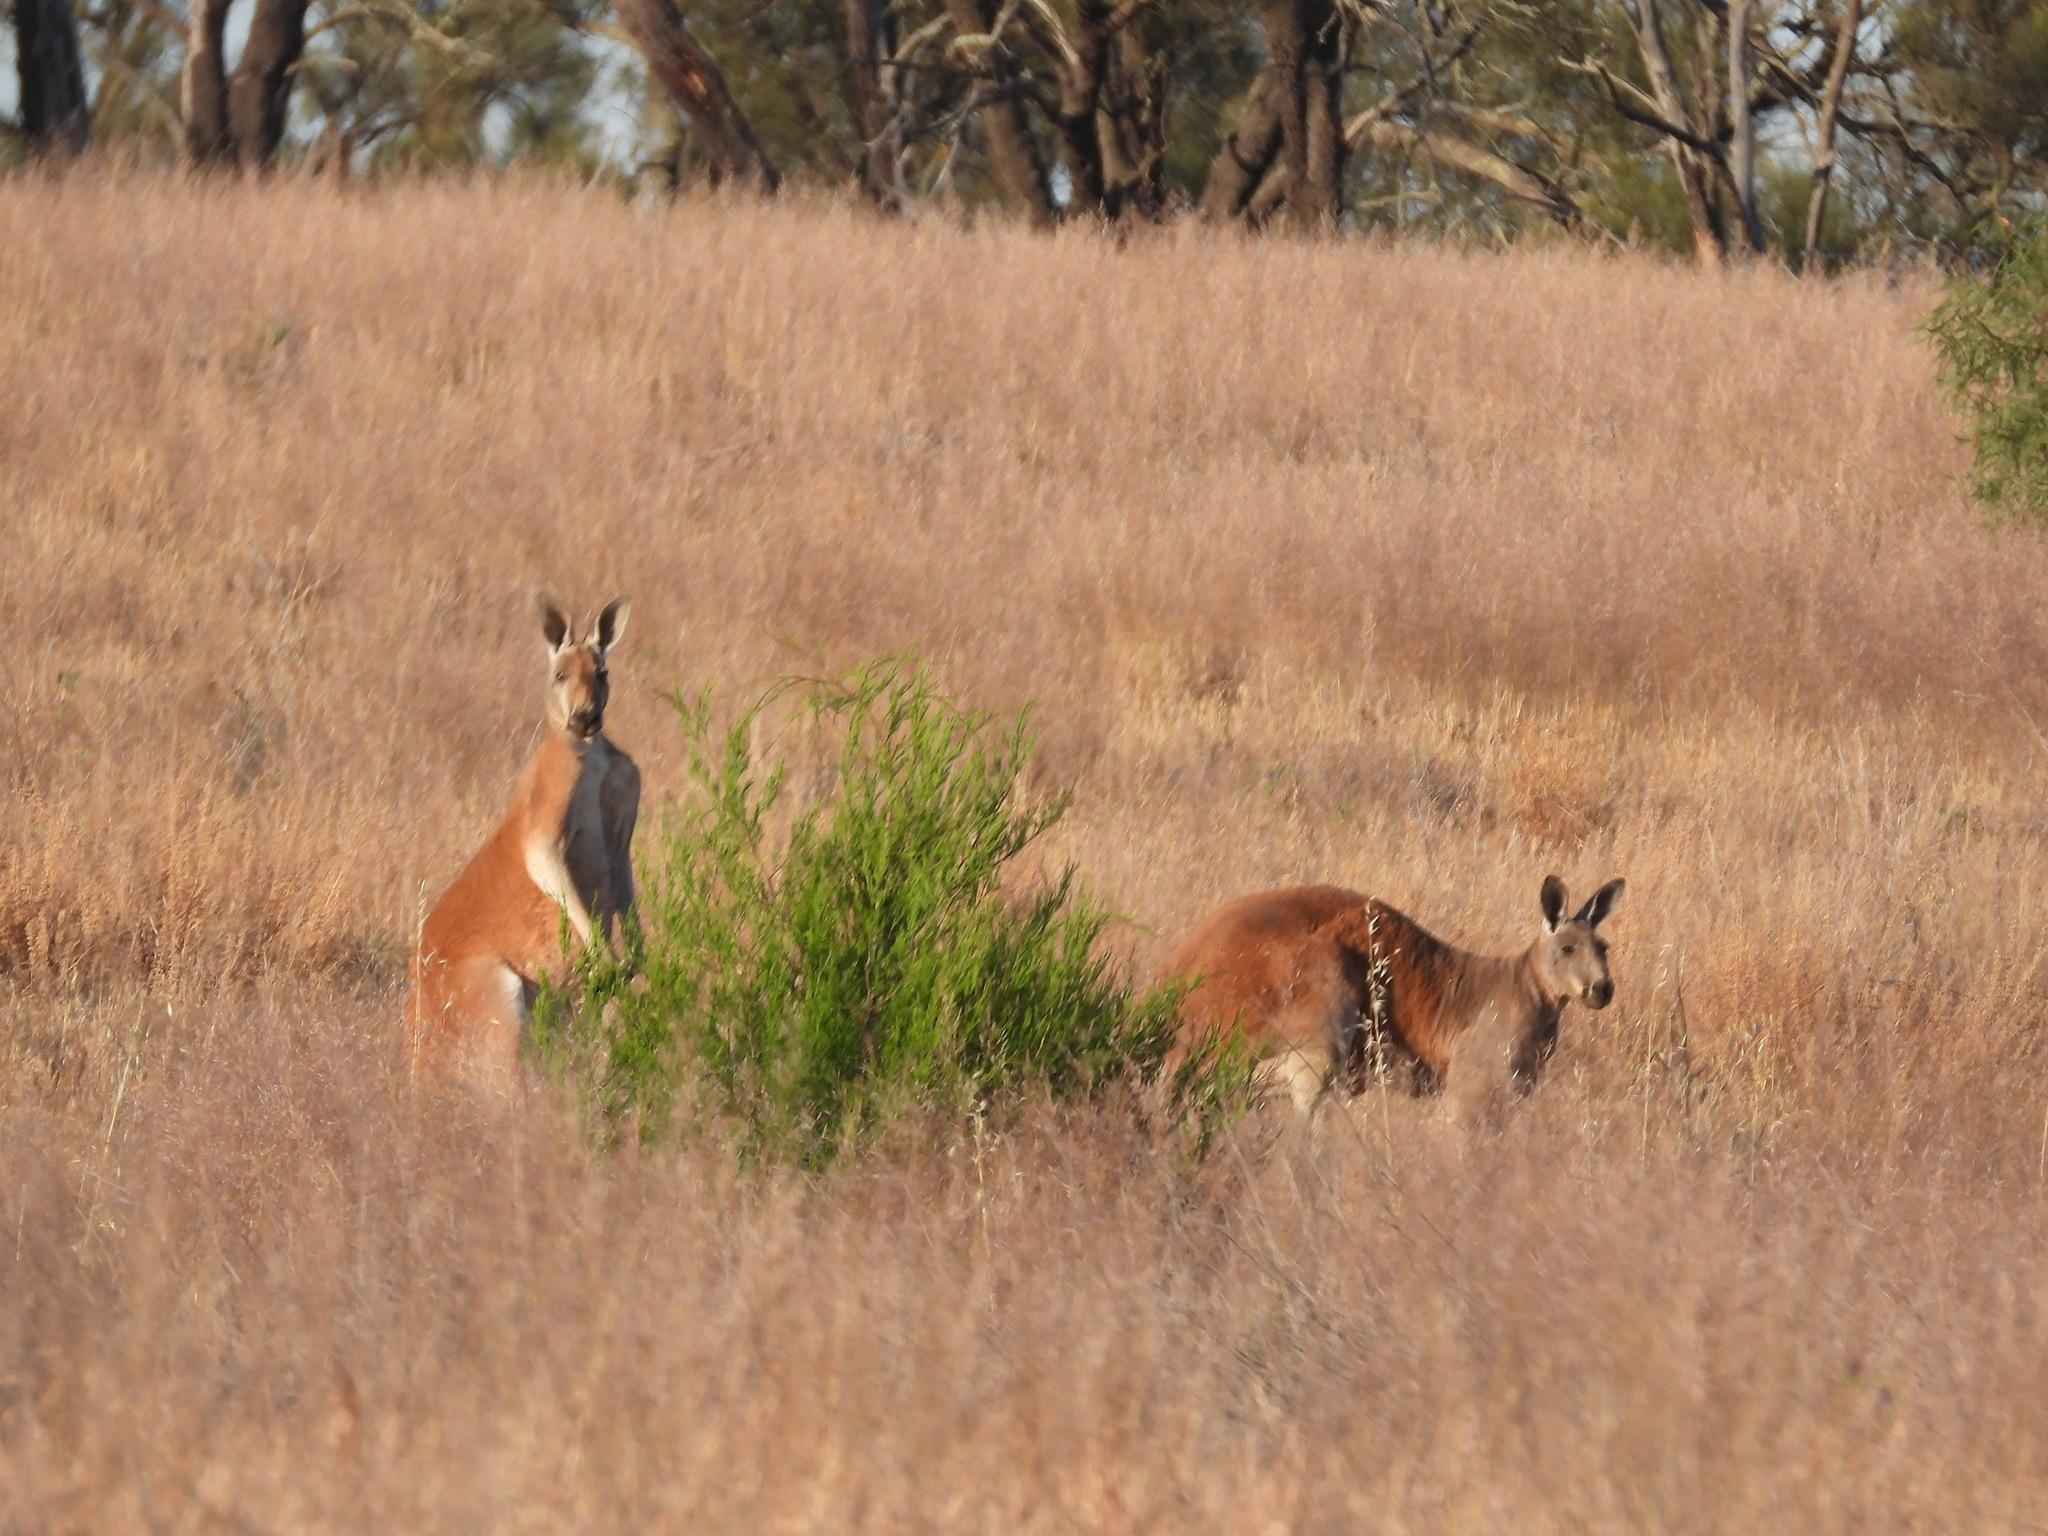Red kangaroo: (1072, 866, 1630, 1146), (393, 597, 647, 1136)
